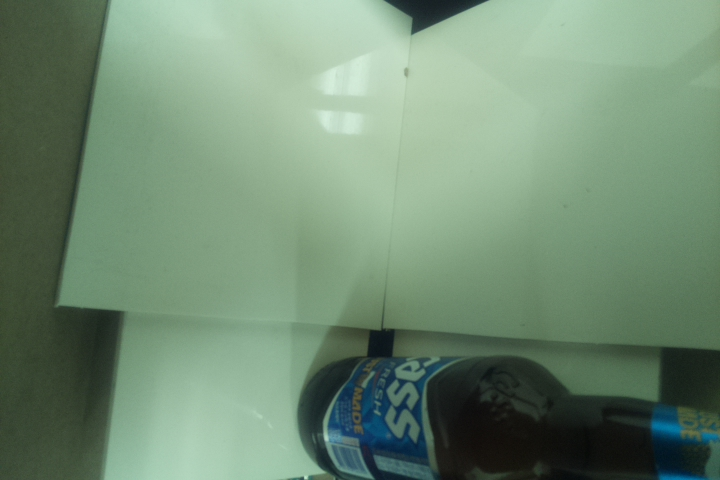makju: (295, 354, 720, 479)
